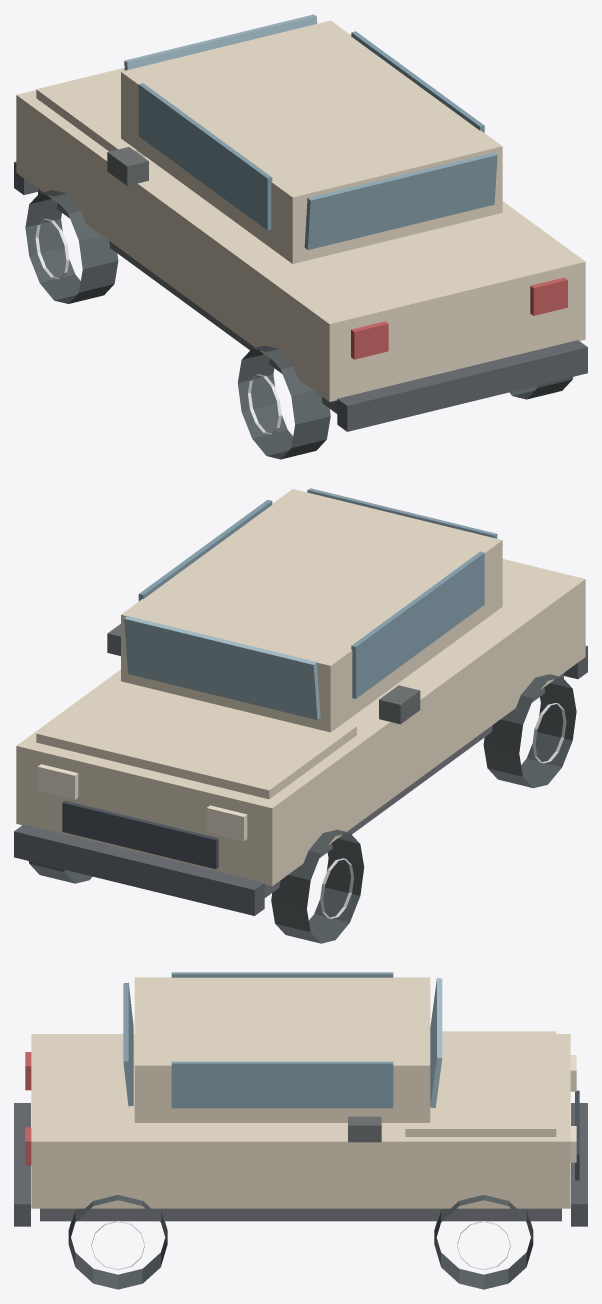
Rendered from uno.glb.
3 renders of one model, top to bottom at view 1: azimuth 30°, elevation 25°; view 2: azimuth 150°, elevation 25°; view 3: azimuth 270°, elevation 25°, orthographic. The views are drawn at different scales.
Parts seen in each view (by area): view 1: painted_body, cabin, tire (×3), rear_glass, rear_bumper, side_window (×2), hood, taillight (×2), windshield, chassis, mirror; view 2: painted_body, cabin, hood, tire (×3), windshield, front_bumper, side_window (×2), grille, headlight (×2), chassis, mirror, rear_glass; view 3: painted_body, cabin, hood, side_window (×2), chassis, tire (×2), rear_bumper, front_bumper, windshield, rear_glass, mirror, grille.
Part boxes in pixels (left/top/right/bottom): painted_body: left=16, top=90, right=585, bottom=401; cabin: left=121, top=20, right=502, bottom=263; tire (×3): left=25, top=190, right=572, bottom=459; rear_glass: left=304, top=152, right=497, bottom=249; rear_bumper: left=337, top=340, right=587, bottom=431; side_window (×2): left=138, top=31, right=484, bottom=230; hood: left=36, top=67, right=145, bottom=157; taillight (×2): left=351, top=277, right=567, bottom=359; windshield: left=124, top=14, right=317, bottom=70; chassis: left=38, top=189, right=337, bottom=413; mirror: left=107, top=147, right=148, bottom=185; painted_body: left=16, top=559, right=585, bottom=886; cabin: left=121, top=489, right=502, bottom=732; hood: left=36, top=672, right=356, bottom=799; tire (×3): left=29, top=674, right=576, bottom=943; windshield: left=124, top=616, right=320, bottom=719; front_bumper: left=14, top=824, right=264, bottom=915; side_window (×2): left=138, top=499, right=484, bottom=698; grille: left=62, top=800, right=218, bottom=869; headlight (×2): left=37, top=764, right=247, bottom=841; chassis: left=264, top=673, right=563, bottom=897; mirror: left=379, top=685, right=420, bottom=724; rear_glass: left=307, top=488, right=497, bottom=538; painted_body: left=31, top=1034, right=570, bottom=1208; cabin: left=134, top=977, right=430, bottom=1122; hood: left=405, top=1031, right=556, bottom=1136; side_window (×2): left=171, top=972, right=393, bottom=1108; chassis: left=40, top=1208, right=561, bottom=1221; tire (×2): left=68, top=1195, right=533, bottom=1289; rear_bumper: left=14, top=1103, right=30, bottom=1226; front_bumper: left=571, top=1103, right=587, bottom=1226; windshield: left=430, top=978, right=442, bottom=1107; rear_glass: left=123, top=982, right=133, bottom=1106; mirror: left=348, top=1116, right=381, bottom=1142; grille: left=575, top=1090, right=579, bottom=1180.
Size of the model in its own units: 1.89 by 1.52 by 3.72.
